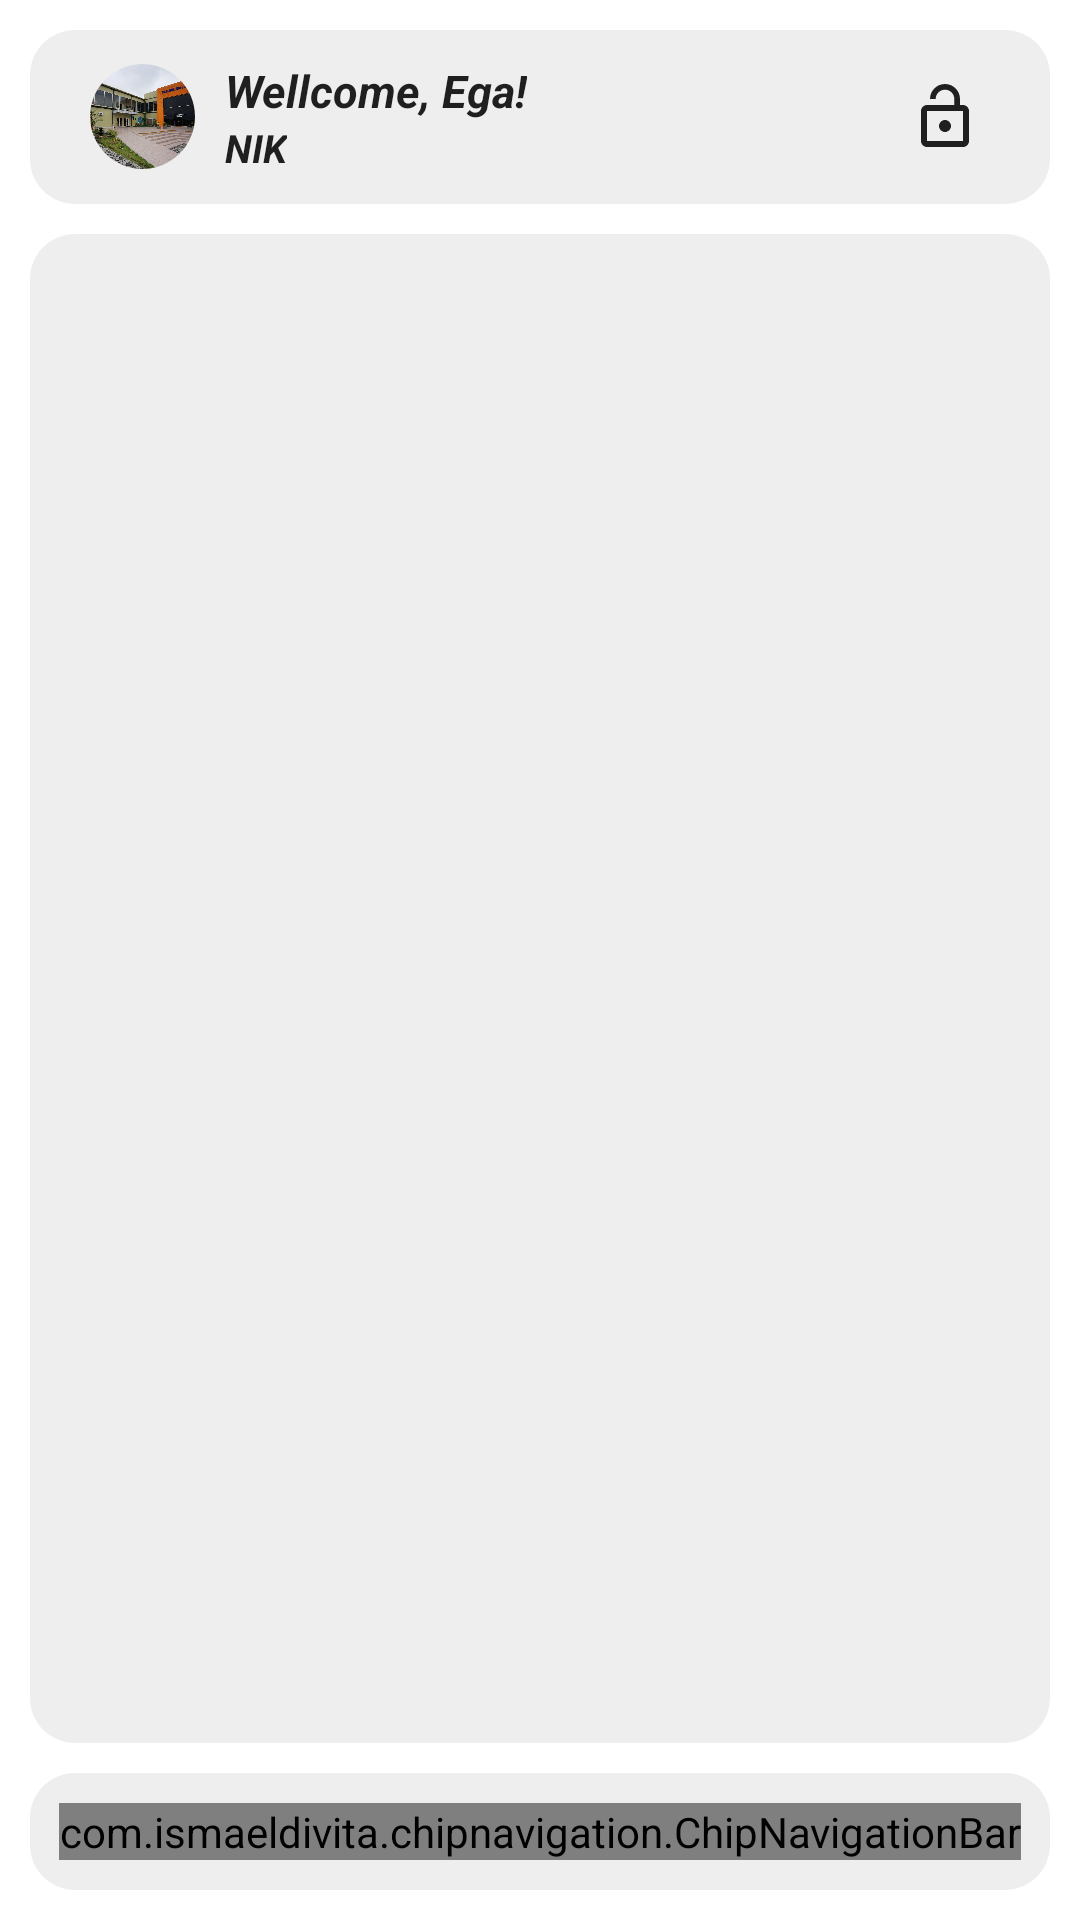

Icons on this 1080 x 1920 Android screen, each with its box as (x1, y1, x2, y2):
sign out: (921, 84, 969, 147)
